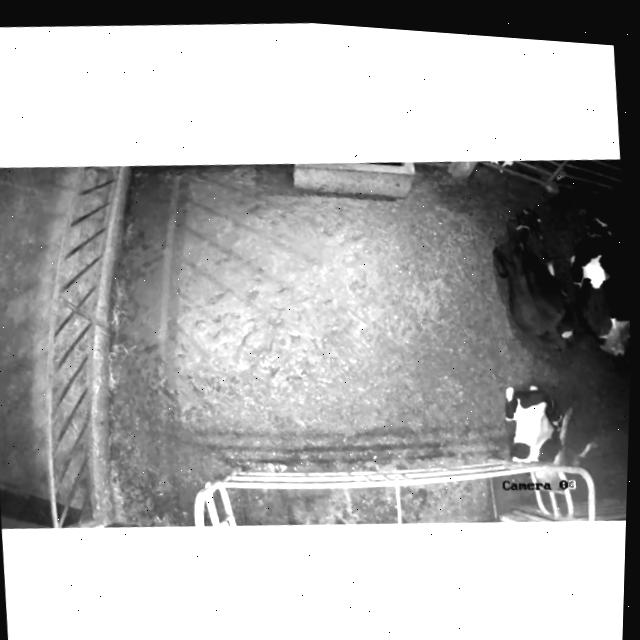lay: (480, 196, 583, 369), (485, 366, 616, 501), (563, 190, 636, 378)
